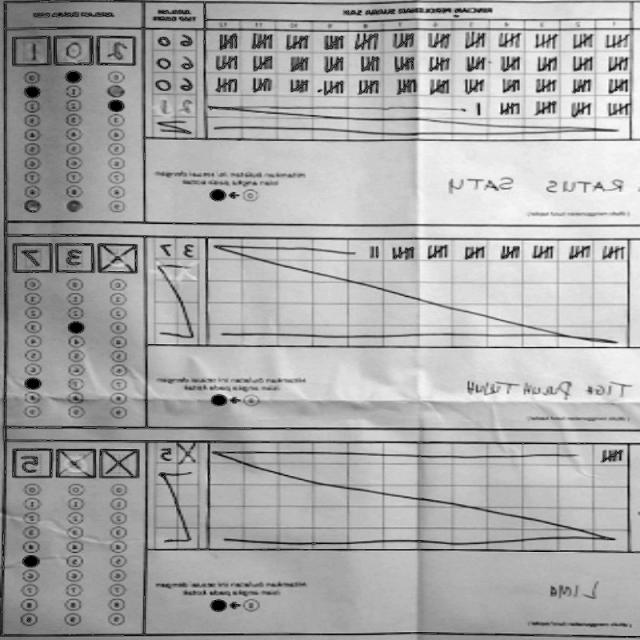Suara: (10, 445, 144, 480), (8, 33, 141, 68), (11, 240, 144, 274)
